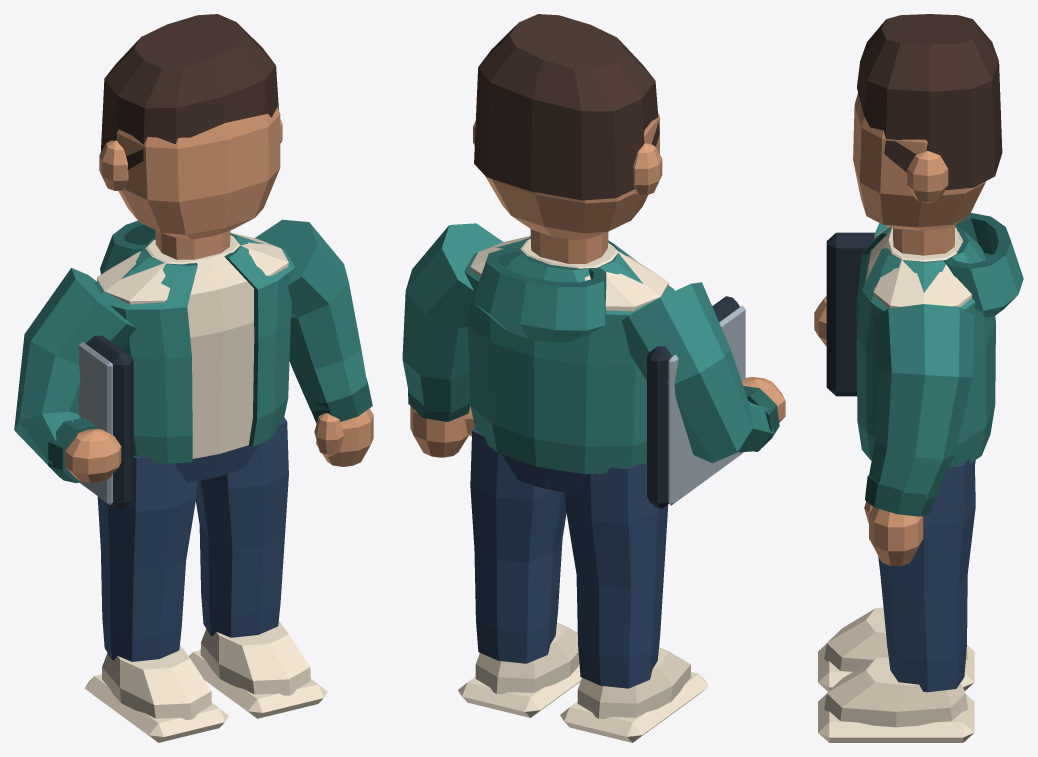
Rendered from copilot_human_developer_v01.glb.
The picture shows the model from 3 angles, left to right: view 1: azimuth 30°, elevation 25°; view 2: azimuth 150°, elevation 25°; view 3: azimuth 270°, elevation 25°; orthographic projection. The views are drawn at different scales.
Visible parts, largest first — view 1: casual_developer; view 2: casual_developer; view 3: casual_developer.
Boxes of the visible parts, bbox=[...] form: casual_developer: bbox=[14, 14, 373, 742]; casual_developer: bbox=[402, 14, 785, 742]; casual_developer: bbox=[814, 14, 1023, 742].
Bounding box in the file's own units: 1.62 × 2.98 × 0.8299.
Materials: 1 (1 with a texture image).
